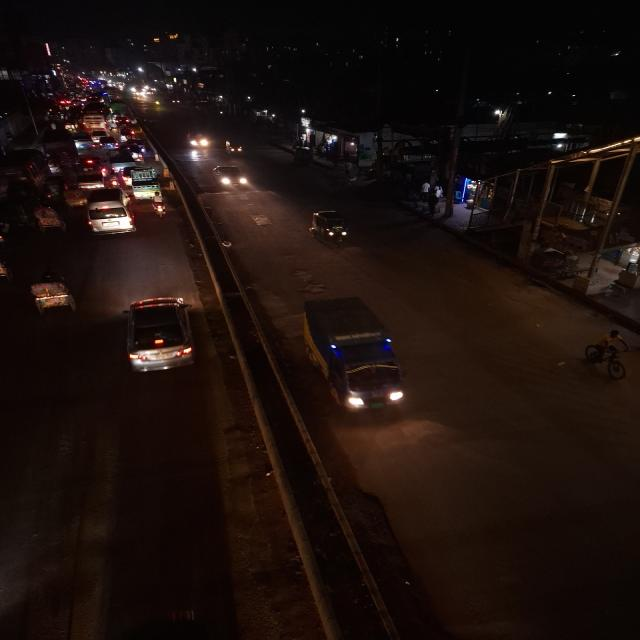bicycle: (576, 326, 637, 384)
bus: (7, 153, 47, 190), (42, 132, 77, 165), (79, 103, 105, 131)
car: (117, 290, 202, 376), (84, 190, 135, 238), (208, 162, 251, 192), (178, 129, 212, 153), (125, 137, 146, 154), (96, 137, 119, 150), (118, 116, 132, 127)
cng: (312, 205, 354, 251), (293, 147, 314, 166), (227, 139, 245, 157)
motorcycle: (148, 193, 169, 220), (106, 169, 122, 189)
pickup_van: (130, 170, 163, 200), (73, 164, 105, 189), (105, 149, 138, 169), (74, 132, 94, 150)
rickshaw: (19, 270, 83, 320), (30, 200, 70, 238), (47, 160, 65, 176)
truck: (298, 297, 415, 420)
